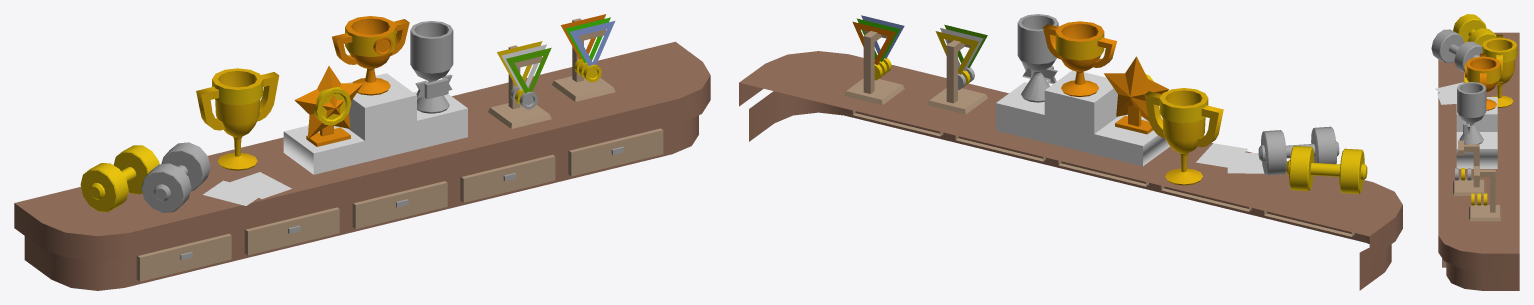
Rendered from table.fbx.
The picture shows the model from 3 angles, left to right: view 1: azimuth 30°, elevation 25°; view 2: azimuth 150°, elevation 25°; view 3: azimuth 270°, elevation 25°; orthographic projection. The views are drawn at different scales.
Parts seen in each view (by area): view 1: table; view 2: table; view 3: table.
Boxes of the visible parts, x1,y1,x2,y2 form: table: (14,14,710,290); table: (739,14,1402,290); table: (1431,14,1519,290).
Bounding box in the file's own units: 675 × 170 × 114.
